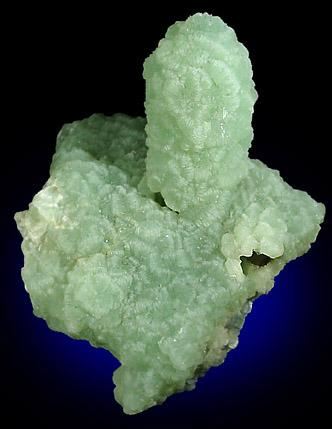prehnite: (13, 13, 327, 416)
